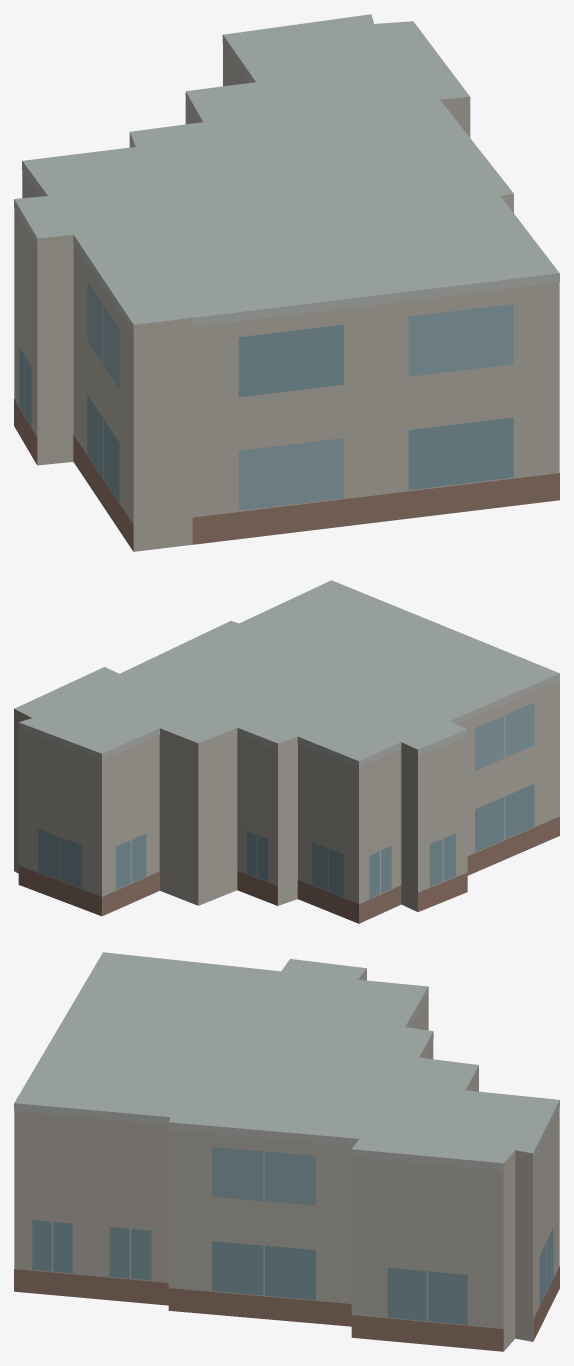
Rendered from survey-upis-32970038.glb.
The picture shows the model from 3 angles, top to bottom: view 1: azimuth 30°, elevation 25°; view 2: azimuth 150°, elevation 25°; view 3: azimuth 270°, elevation 25°; orthographic projection. The views are drawn at different scales.
Visible parts, largest first — view 1: survey-upis-32970038.tmp; view 2: survey-upis-32970038.tmp; view 3: survey-upis-32970038.tmp.
Part boxes in pixels (x1,y1,x2,y2): survey-upis-32970038.tmp: [14, 14, 559, 551]; survey-upis-32970038.tmp: [14, 580, 559, 923]; survey-upis-32970038.tmp: [14, 952, 559, 1351].
Size of the model in its own units: 14.66 by 6.1 by 16.02.
